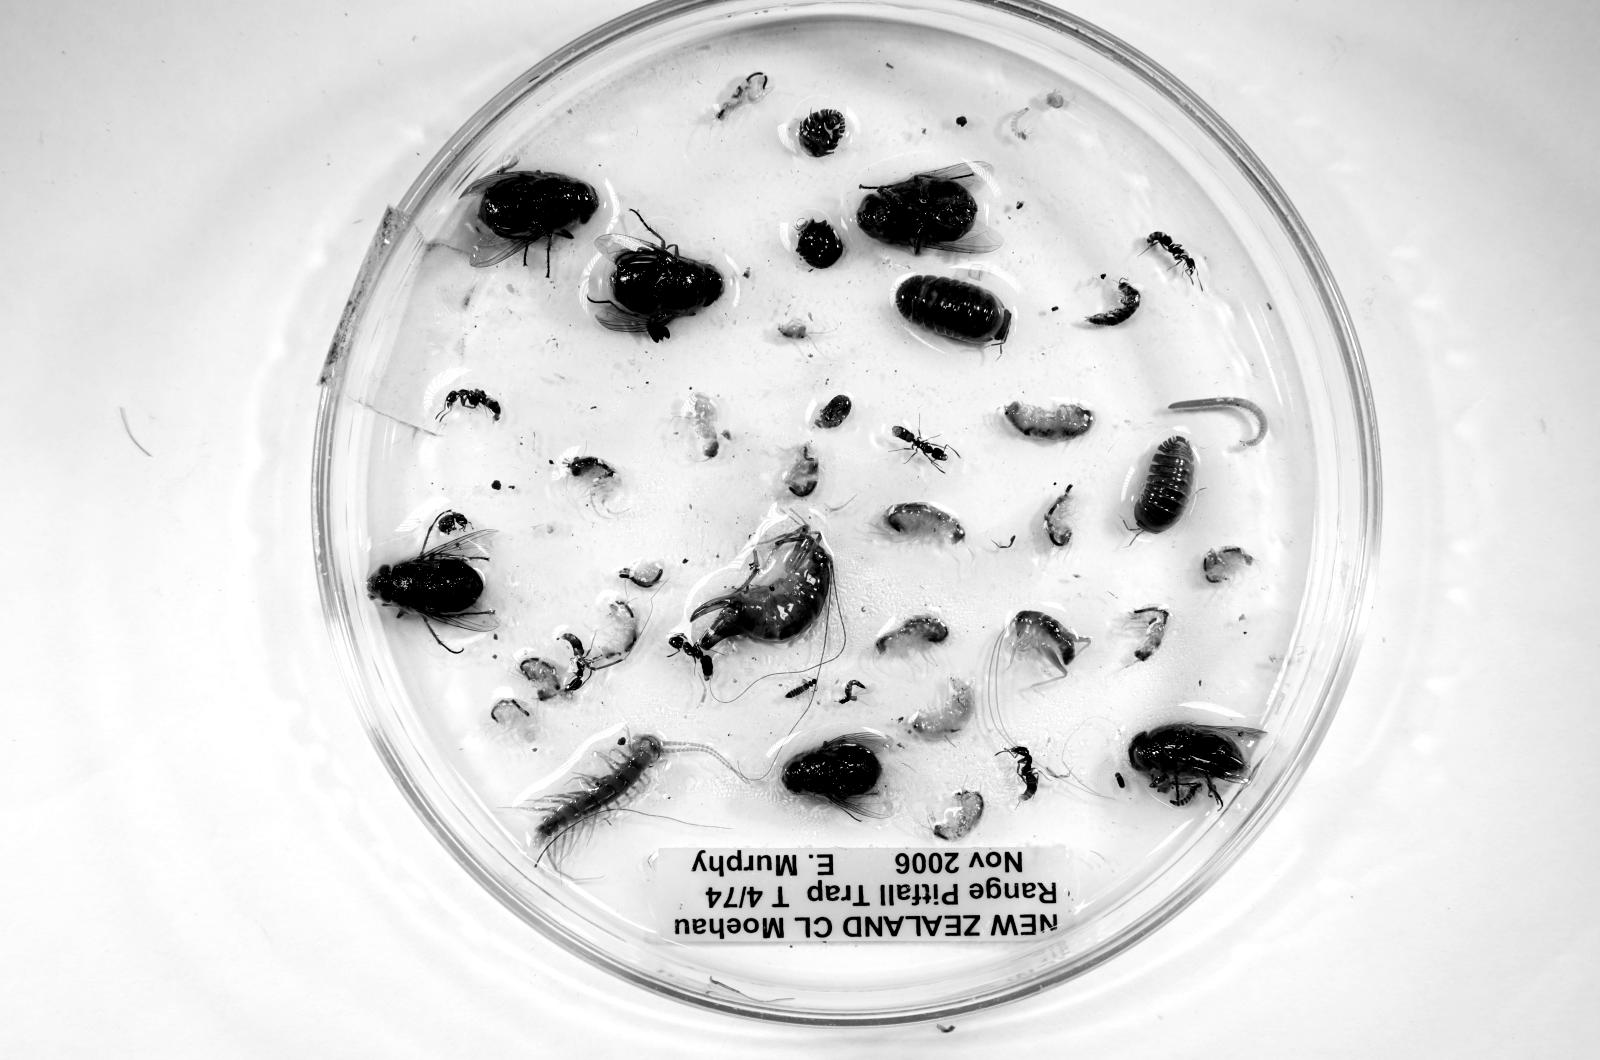amphipoda: (911, 677, 976, 741), (587, 594, 641, 668), (1005, 401, 1094, 441), (883, 502, 965, 544), (874, 612, 948, 657), (932, 788, 984, 840), (1125, 605, 1170, 661), (488, 697, 539, 746), (715, 72, 767, 121), (517, 653, 566, 702), (1201, 545, 1255, 583), (784, 441, 820, 498), (1044, 485, 1073, 548)
chilopoda: (524, 735, 751, 865)
coleoptera: (838, 680, 866, 704), (785, 678, 817, 698)
diplopoda: (1168, 397, 1268, 446)
diptera: (587, 235, 725, 342), (856, 162, 1000, 256), (367, 530, 494, 632), (471, 172, 600, 267), (1129, 724, 1249, 807), (782, 731, 890, 819)
formicidae: (892, 426, 960, 472), (1146, 231, 1197, 278), (668, 633, 714, 681), (436, 388, 501, 421), (1000, 745, 1038, 802), (559, 632, 595, 692)
isopoda: (895, 276, 1013, 347), (1134, 437, 1197, 532), (1084, 278, 1140, 327), (797, 109, 844, 157)
opiliones: (796, 220, 843, 269), (812, 394, 851, 429)
orthoptera: (689, 525, 834, 649), (1006, 609, 1090, 678)
